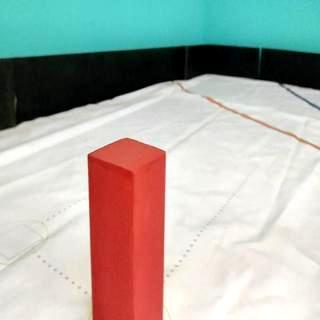redbox: (86, 135, 166, 320)
